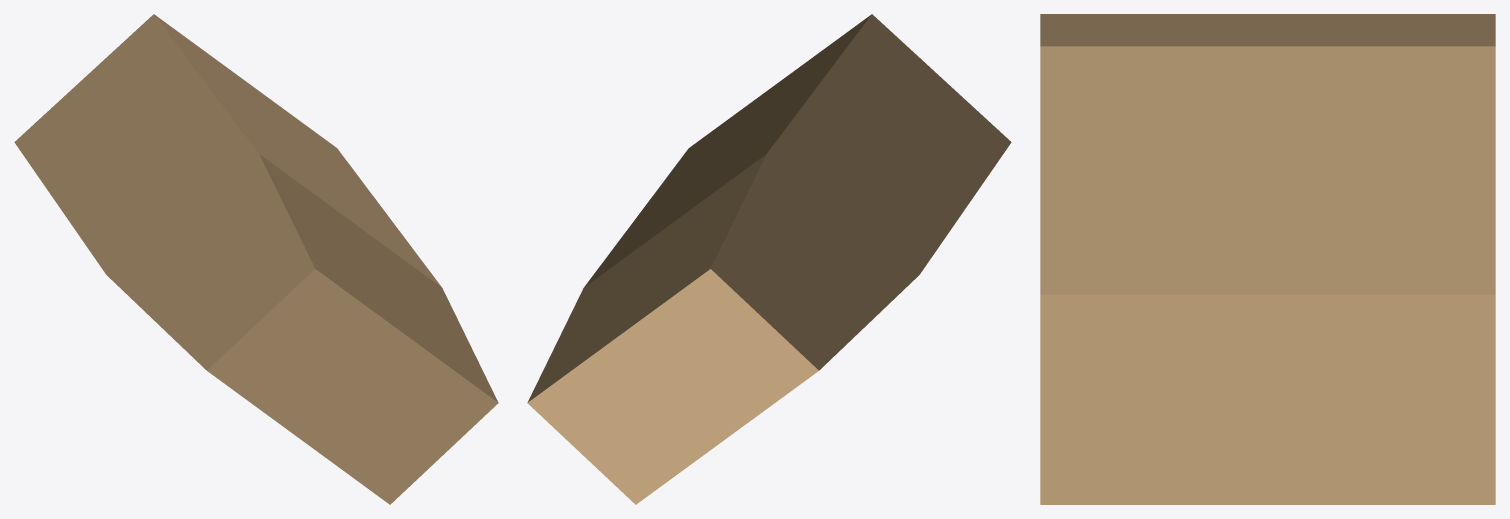
The picture shows the model from 3 angles, left to right: view 1: azimuth 30°, elevation 25°; view 2: azimuth 150°, elevation 25°; view 3: azimuth 270°, elevation 25°; orthographic projection. The views are drawn at different scales.
Parts seen in each view (by area): view 1: 0_0_1_1_2_2_1_2_0; view 2: 0_0_1_1_2_2_1_2_0; view 3: 0_0_1_1_2_2_1_2_0.
Part boxes in pixels (left/top/right/bottom): 0_0_1_1_2_2_1_2_0: left=14, top=14, right=498, bottom=504; 0_0_1_1_2_2_1_2_0: left=527, top=14, right=1011, bottom=504; 0_0_1_1_2_2_1_2_0: left=1040, top=14, right=1495, bottom=504.
Size of the model in its own units: 22.75 by 26.7 by 24.
